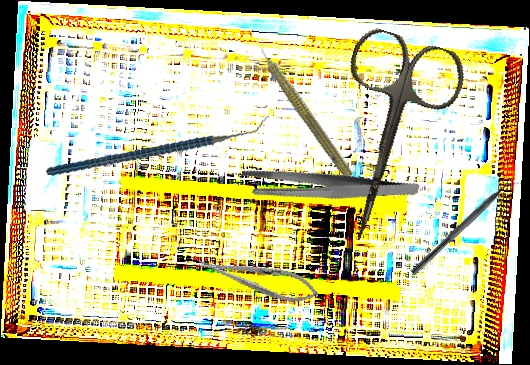Chopper: (45, 86, 271, 205), (410, 171, 524, 283)
Dressing Forceps: (236, 130, 421, 243)
Handpiece: (247, 34, 360, 182)
Iris Scissors: (301, 23, 472, 257)
Needle Holder: (195, 247, 322, 310)
